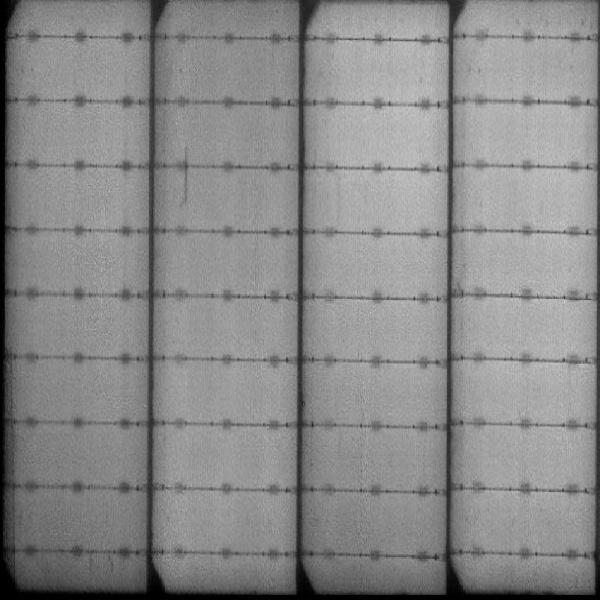scratch: (181, 147, 195, 208)
